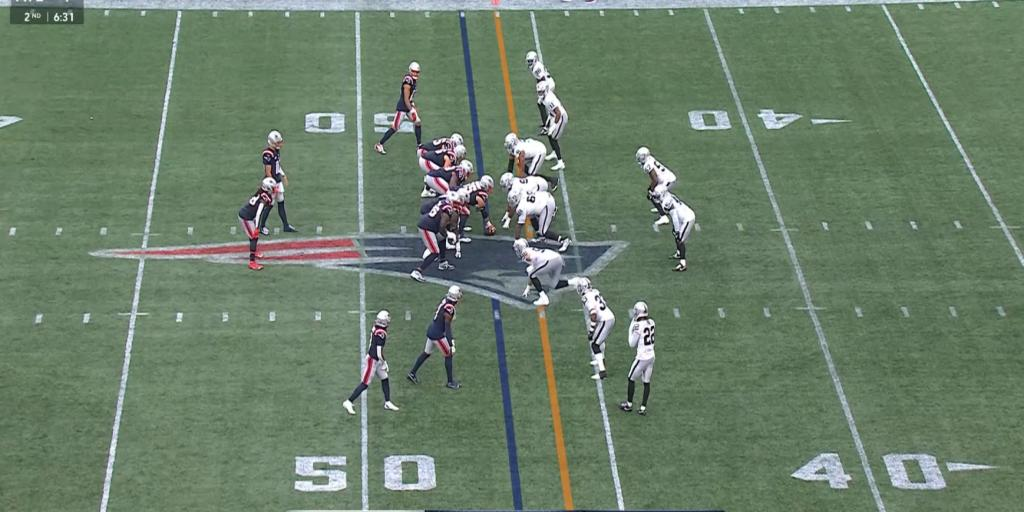player: (343, 310, 399, 414), (408, 286, 461, 386), (410, 192, 459, 281), (375, 62, 421, 154), (575, 277, 615, 380), (620, 301, 655, 413), (508, 189, 570, 251), (239, 178, 278, 269), (514, 240, 567, 305), (262, 130, 296, 231), (655, 186, 695, 270), (636, 147, 676, 223), (536, 82, 567, 170), (506, 132, 555, 184), (459, 174, 493, 226), (425, 161, 471, 194), (423, 143, 465, 172), (527, 51, 553, 91), (501, 172, 548, 192), (422, 133, 462, 152), (455, 191, 469, 235), (538, 100, 547, 126), (259, 209, 268, 233)
